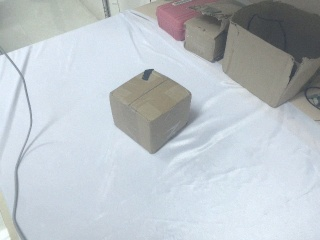box: (221, 1, 320, 109), (109, 68, 192, 154), (153, 1, 220, 42), (184, 14, 229, 63)
